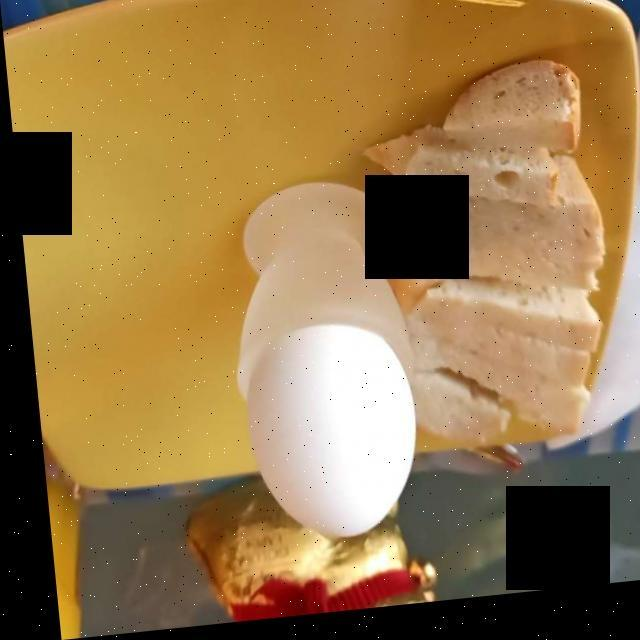bread: (367, 39, 605, 460)
egg: (236, 340, 410, 547)
